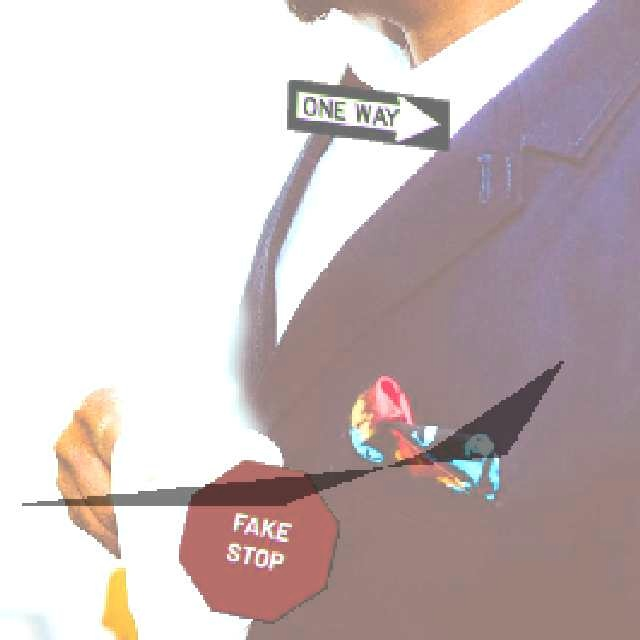FAKE_STOP: (175, 457, 339, 622)
ONE_WAY_ right: (284, 76, 449, 150)
